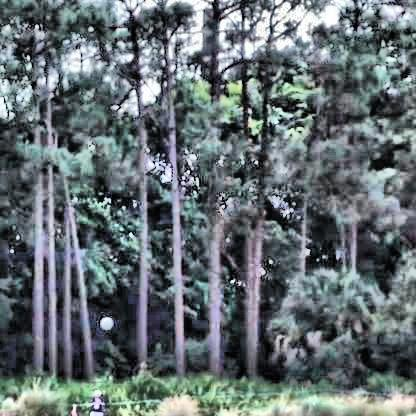golfball: (98, 314, 109, 327)
